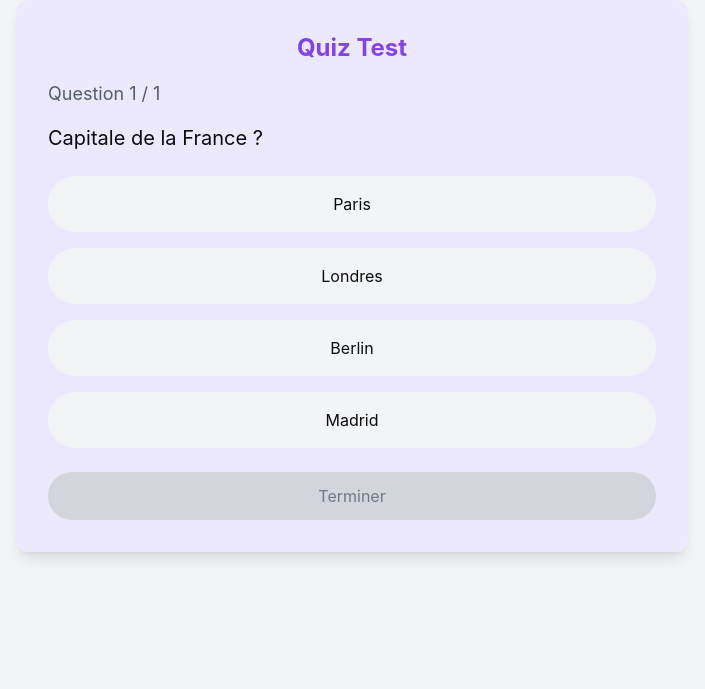
it: <Quiz /> › Interactions utilisateur › active le bouton Terminer après sélection
This screenshot has width=705, height=689.
expect the heading "Quiz Test" is shown: met, box left=297, top=33, right=407, bottom=62
expect the button "Terminer" is disabled: met, box left=48, top=472, right=656, bottom=520
Note: Sélectionner une réponse
Click the button "Paris": (352, 204) left=48, top=176, right=656, bottom=232
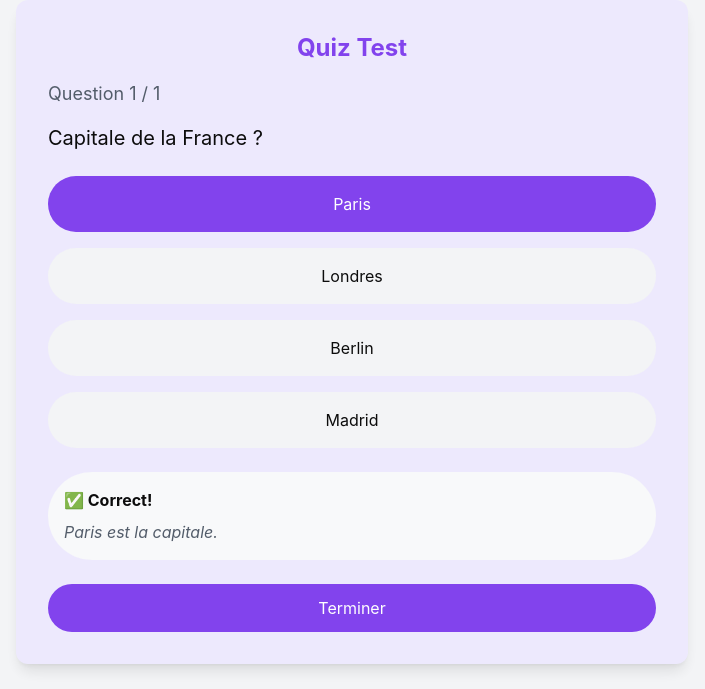
expect the button "Terminer" is enabled: met, box left=48, top=584, right=656, bottom=632
